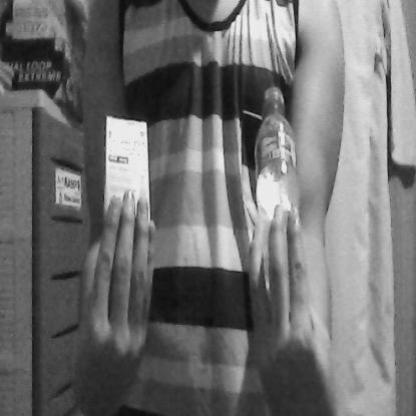Plastic Bottle: (250, 72, 309, 274)
